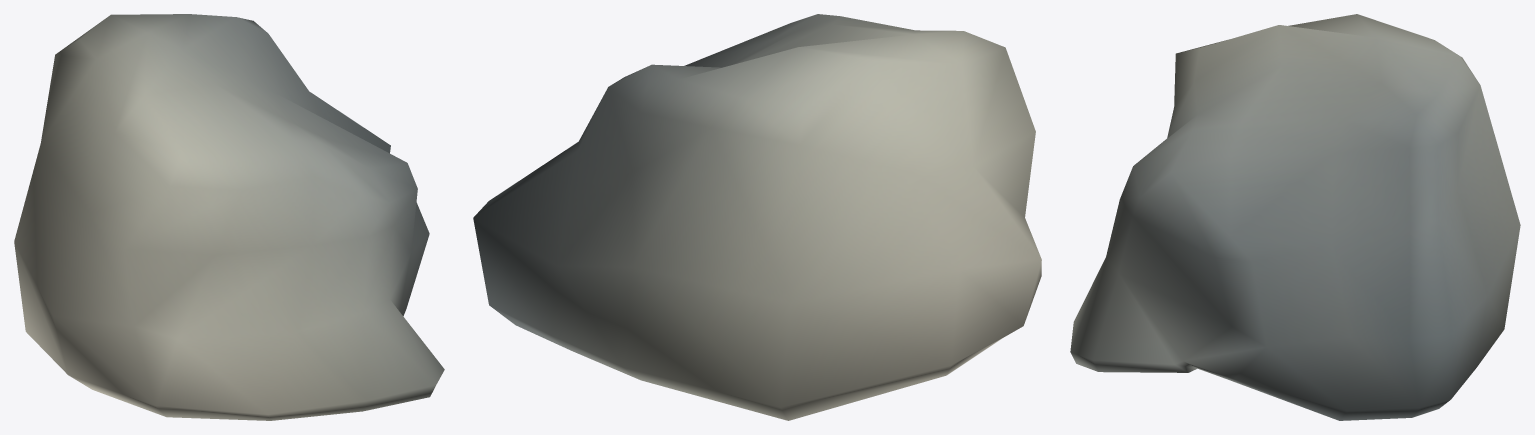
File: Rock01.FBX
3 renders of one model, left to right at view 1: azimuth 30°, elevation 25°; view 2: azimuth 150°, elevation 25°; view 3: azimuth 270°, elevation 25°, orthographic. The views are drawn at different scales.
Visible parts, largest first — view 1: Rock01; view 2: Rock01; view 3: Rock01.
Part boxes in pixels (bbox=[...]): Rock01: bbox=[14, 14, 444, 420]; Rock01: bbox=[473, 14, 1041, 420]; Rock01: bbox=[1070, 14, 1520, 420].
Bounding box in the file's own units: 71.92 × 46.19 × 70.22.
